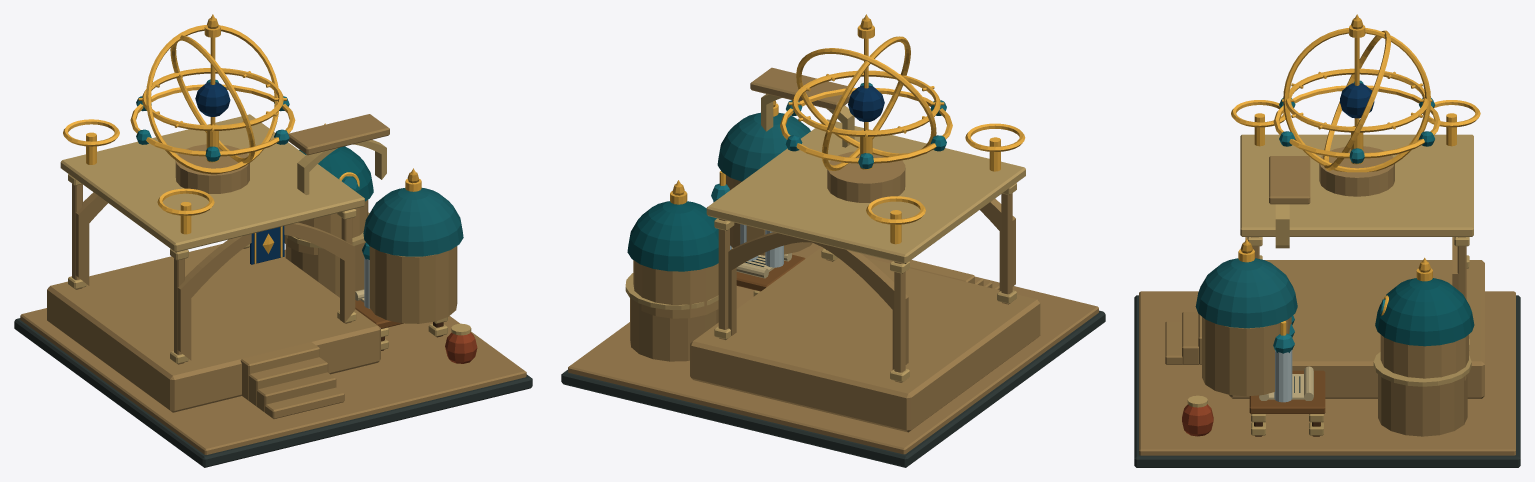
The picture shows the model from 3 angles, left to right: view 1: azimuth 30°, elevation 25°; view 2: azimuth 150°, elevation 25°; view 3: azimuth 270°, elevation 25°; orthographic projection. The views are drawn at different scales.
Parts seen in each view (by area): view 1: laboratory_level8_structure, laboratory_level8_metal; view 2: laboratory_level8_structure, laboratory_level8_metal; view 3: laboratory_level8_structure, laboratory_level8_metal.
Part boxes in pixels (left/top/right/bottom): laboratory_level8_structure: left=14, top=18, right=532, bottom=467; laboratory_level8_metal: left=63, top=14, right=421, bottom=263; laboratory_level8_structure: left=561, top=18, right=1105, bottom=467; laboratory_level8_metal: left=670, top=14, right=1025, bottom=244; laboratory_level8_structure: left=1134, top=18, right=1520, bottom=467; laboratory_level8_metal: left=1231, top=14, right=1480, bottom=335.
Bounding box in the file's own units: 5.6 × 5.61 × 5.6.
